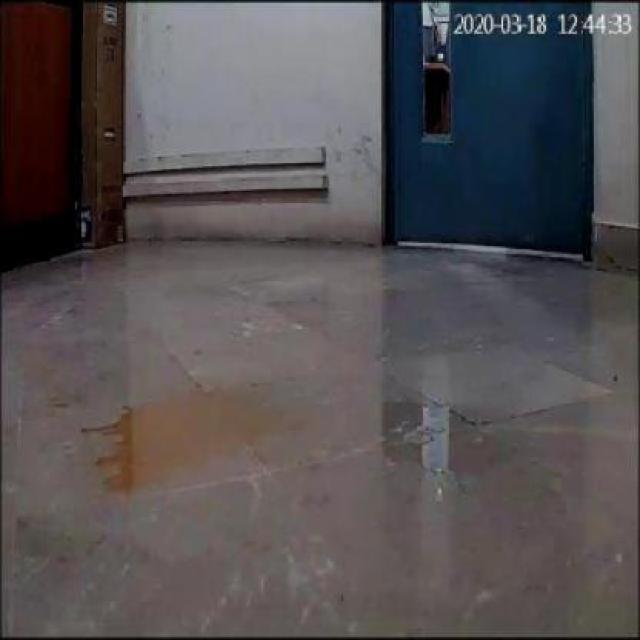spillage: (92, 390, 302, 491)
